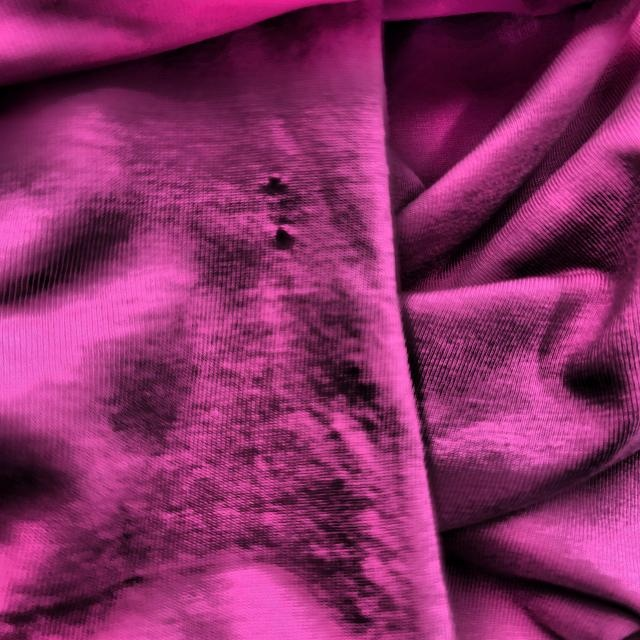Hole: (246, 160, 302, 210), (257, 216, 310, 266)
